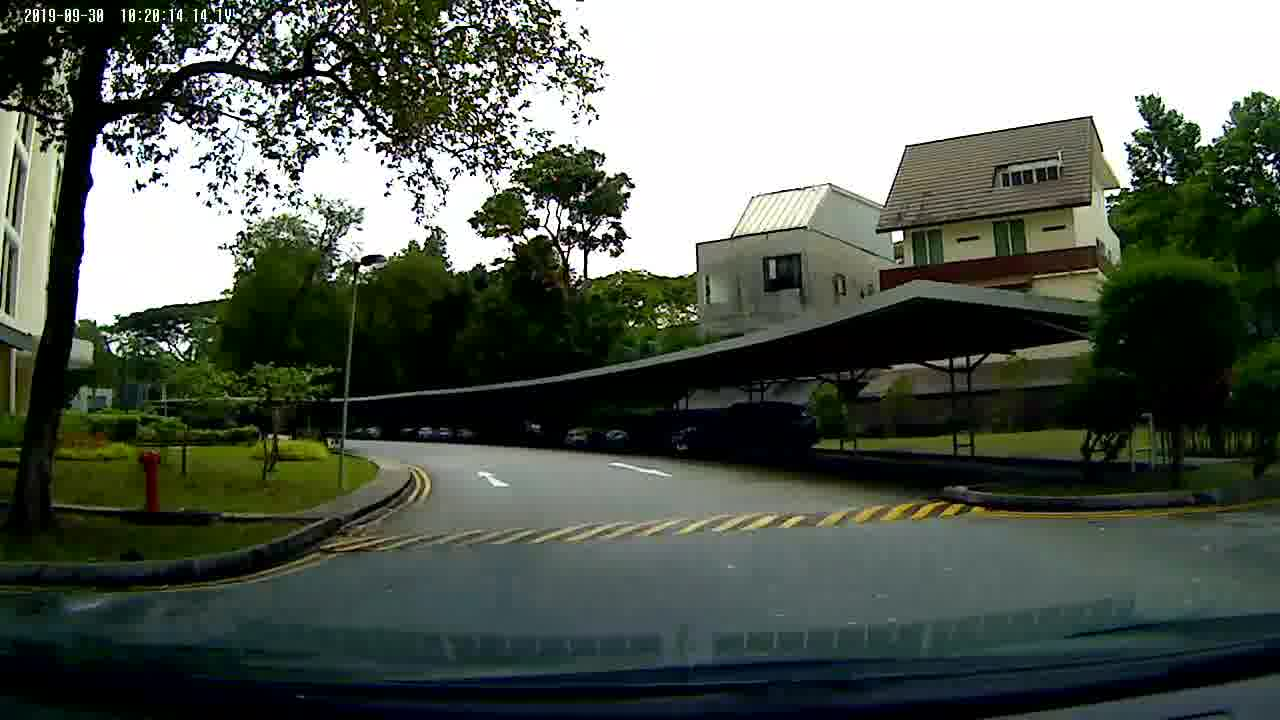car: (665, 401, 825, 466)
